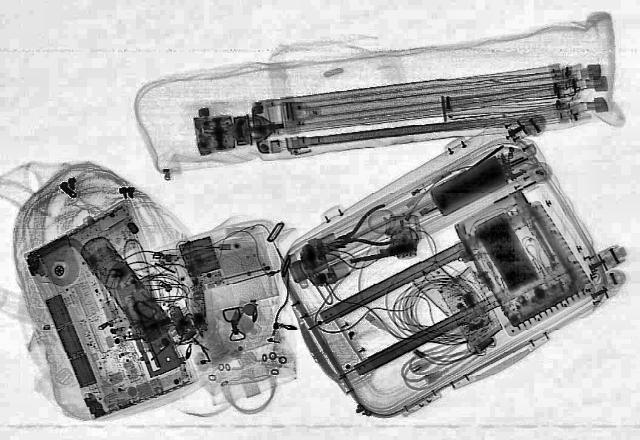Pliers: (320, 202, 412, 256)
